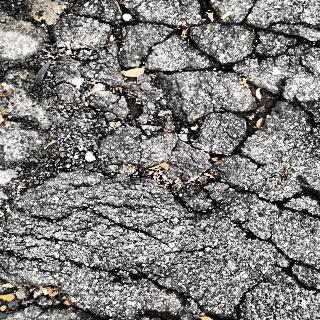alligator-crack: (47, 0, 320, 220)
crack: (0, 241, 276, 320), (228, 215, 320, 308)
